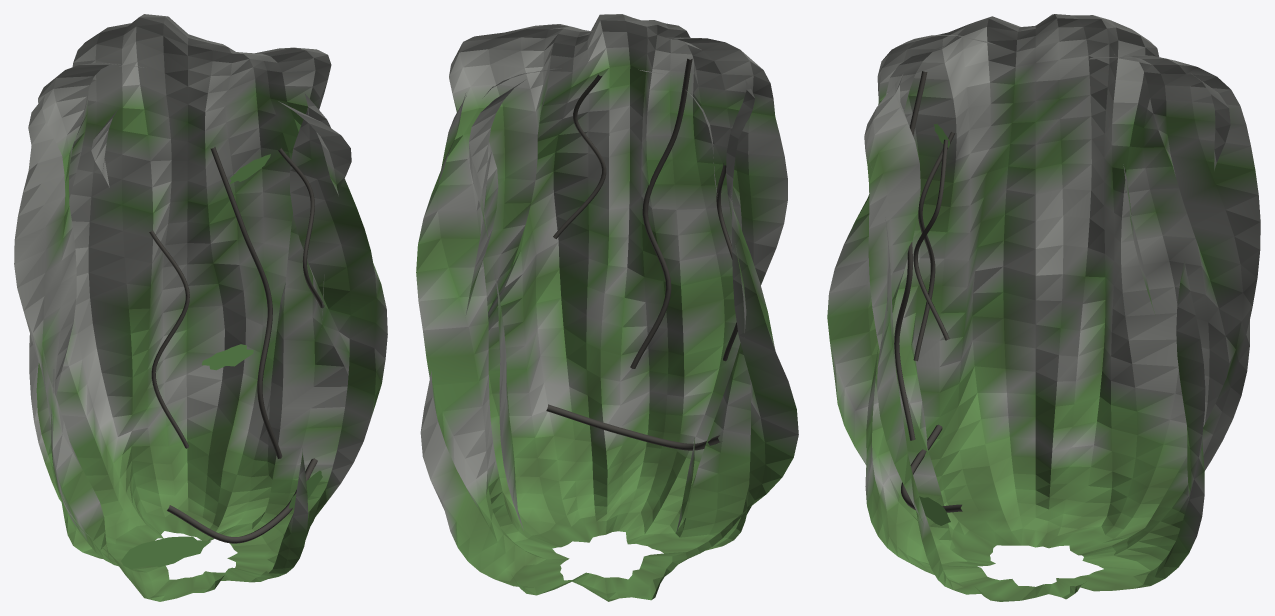
Rendered from roca_musgosa_alta.glb.
3 views of the same model, side by side, from view 1: azimuth 30°, elevation 25°; view 2: azimuth 150°, elevation 25°; view 3: azimuth 270°, elevation 25° (orthographic). The views are drawn at different scales.
Visible parts, largest first — view 1: mossy_cracked_rock_body, deep_front_vertical_crack, raised_moss_left_base, lower_shadow_split, left_branching_crack, right_upper_crack, raised_moss_mid_face; view 2: mossy_cracked_rock_body, deep_front_vertical_crack, lower_shadow_split, right_upper_crack, left_branching_crack; view 3: mossy_cracked_rock_body, deep_front_vertical_crack, left_branching_crack, right_upper_crack, lower_shadow_split.
Boxes of the visible parts, left/top/right/bottom form: mossy_cracked_rock_body: left=14, top=14, right=387, bottom=601; deep_front_vertical_crack: left=210, top=147, right=282, bottom=458; raised_moss_left_base: left=121, top=536, right=210, bottom=569; lower_shadow_split: left=167, top=458, right=317, bottom=543; left_branching_crack: left=149, top=230, right=189, bottom=448; right_upper_crack: left=278, top=148, right=324, bottom=308; raised_moss_mid_face: left=201, top=344, right=253, bottom=370; mossy_cracked_rock_body: left=416, top=14, right=798, bottom=601; deep_front_vertical_crack: left=630, top=58, right=692, bottom=368; lower_shadow_split: left=546, top=404, right=722, bottom=450; right_upper_crack: left=553, top=74, right=606, bottom=238; left_branching_crack: left=716, top=163, right=737, bottom=361; mossy_cracked_rock_body: left=827, top=14, right=1260, bottom=601; deep_front_vertical_crack: left=894, top=71, right=927, bottom=440; left_branching_crack: left=913, top=132, right=954, bottom=361; right_upper_crack: left=913, top=139, right=949, bottom=340; lower_shadow_split: left=901, top=424, right=962, bottom=512.
Bounding box in the file's own units: 2.85 × 4.26 × 3.25.
